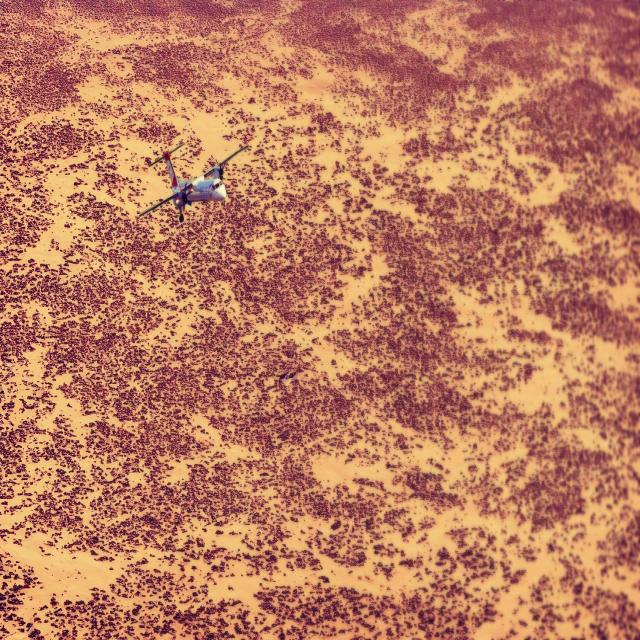airplane: (136, 138, 250, 222)
